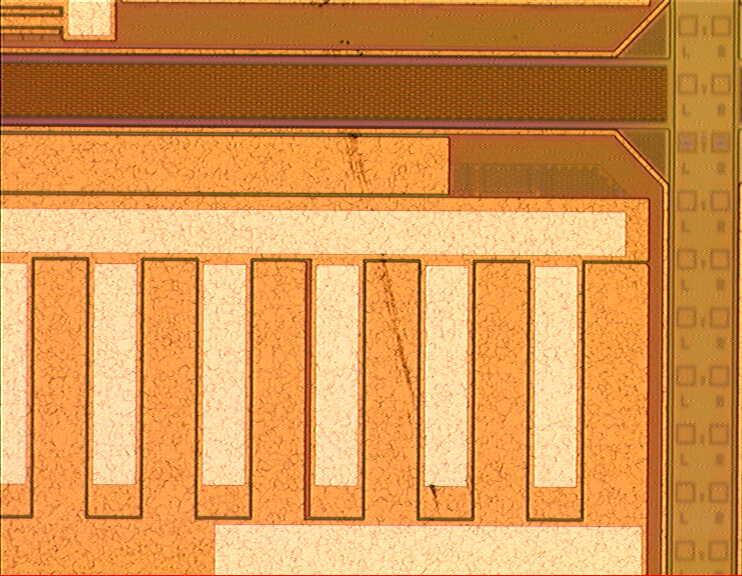SCRATCH: (309, 1, 453, 557)
